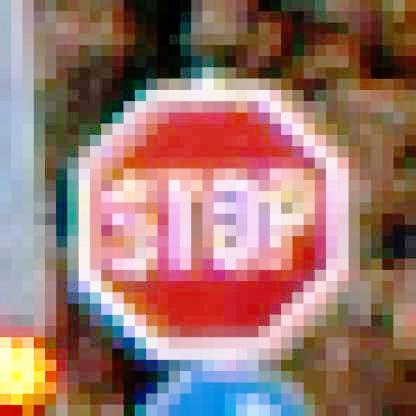Stop Sign: (71, 85, 356, 361)
